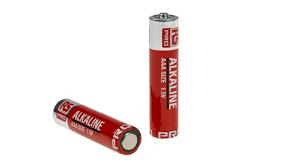AAA: (51, 94, 143, 157), (146, 12, 185, 141)
